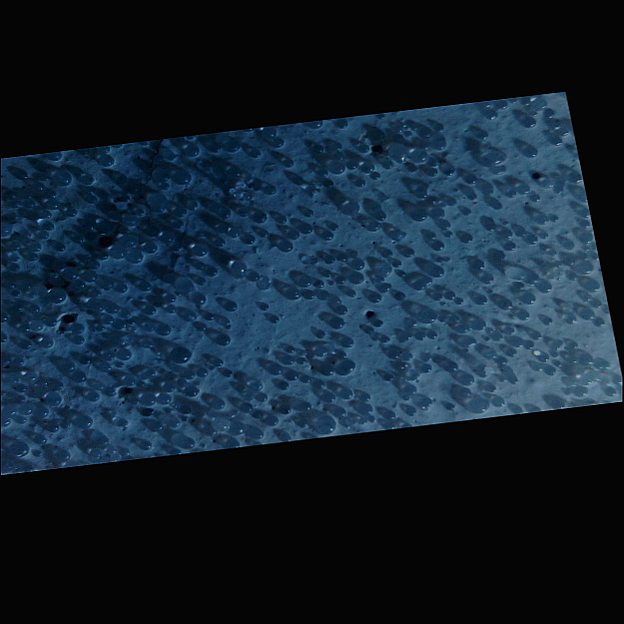GrassBeadSeg: (55, 168, 529, 397), (165, 137, 540, 426), (122, 189, 516, 455), (0, 130, 489, 341), (86, 195, 585, 390), (140, 174, 476, 449), (150, 244, 583, 431), (149, 136, 562, 329), (80, 174, 535, 348), (105, 150, 427, 395), (1, 158, 290, 426), (213, 209, 560, 430), (66, 208, 548, 362), (90, 214, 519, 383), (158, 165, 453, 403), (62, 158, 296, 450), (53, 220, 451, 389), (108, 137, 447, 324), (34, 266, 444, 418), (12, 266, 336, 456), (183, 170, 466, 384), (31, 253, 504, 381), (122, 229, 513, 381), (0, 222, 348, 387), (304, 146, 538, 383), (146, 266, 440, 448), (173, 220, 551, 360), (0, 327, 493, 432), (2, 312, 618, 395), (99, 222, 339, 435), (39, 259, 364, 407), (109, 244, 529, 358), (358, 144, 556, 385), (112, 160, 393, 329), (130, 234, 446, 382), (72, 208, 426, 340), (40, 174, 261, 385), (161, 231, 414, 415), (108, 167, 438, 308), (46, 142, 223, 404), (164, 231, 451, 391), (72, 248, 413, 382), (4, 146, 534, 232), (86, 243, 345, 416), (183, 160, 386, 377), (34, 356, 472, 456), (172, 244, 560, 356), (70, 229, 294, 416), (27, 289, 593, 363), (208, 142, 464, 305), (148, 281, 427, 428), (77, 292, 406, 416), (33, 304, 470, 396), (64, 140, 236, 372), (47, 347, 516, 432), (218, 223, 481, 371), (0, 137, 285, 271), (240, 272, 577, 384), (39, 272, 258, 443), (9, 188, 515, 262), (2, 332, 587, 396), (20, 196, 199, 405), (260, 208, 541, 340), (305, 165, 455, 410), (122, 362, 542, 449), (54, 170, 538, 244), (226, 151, 425, 328), (336, 119, 497, 336), (188, 201, 335, 433), (118, 276, 346, 425), (19, 355, 584, 413), (223, 178, 359, 417), (229, 227, 397, 417), (251, 231, 452, 389), (117, 202, 464, 292), (319, 202, 503, 371), (250, 149, 393, 364), (11, 289, 196, 447), (185, 144, 372, 297), (144, 305, 394, 419), (261, 212, 527, 319), (83, 269, 254, 435), (78, 272, 354, 374), (263, 293, 534, 396), (98, 179, 334, 296), (388, 180, 543, 358), (298, 208, 427, 419), (214, 161, 344, 366), (26, 149, 262, 261), (409, 109, 562, 280), (99, 293, 442, 369), (214, 238, 370, 401), (186, 144, 364, 283), (126, 309, 417, 394), (417, 255, 599, 382), (165, 293, 363, 404), (123, 214, 247, 391), (20, 356, 573, 395), (98, 155, 470, 210), (161, 117, 527, 172), (322, 240, 444, 399), (124, 340, 529, 386), (215, 310, 594, 359), (491, 110, 562, 367), (225, 209, 346, 357), (235, 127, 584, 178), (29, 304, 192, 413), (486, 110, 593, 274), (404, 275, 560, 382), (328, 265, 431, 426), (298, 260, 396, 427), (9, 214, 288, 272), (34, 380, 290, 443), (181, 230, 270, 411), (270, 260, 402, 373), (447, 198, 542, 355), (282, 178, 361, 365), (165, 293, 264, 438), (347, 328, 497, 423), (206, 266, 344, 369), (142, 347, 337, 417), (359, 241, 437, 414), (246, 112, 410, 192), (54, 172, 226, 248), (160, 231, 356, 297), (46, 199, 248, 262), (539, 231, 622, 384), (257, 333, 498, 384), (361, 295, 487, 392), (472, 178, 553, 328), (3, 387, 353, 421), (172, 161, 379, 218), (185, 234, 257, 395), (285, 173, 375, 301), (25, 338, 299, 380), (192, 243, 382, 303), (287, 316, 552, 359), (266, 289, 349, 425), (378, 202, 502, 293), (373, 289, 493, 383), (15, 263, 71, 461), (378, 187, 508, 269), (253, 212, 517, 249), (372, 172, 437, 322), (366, 221, 417, 412), (13, 356, 487, 376), (197, 185, 277, 303), (29, 319, 341, 349), (315, 221, 394, 337), (197, 347, 513, 376), (205, 312, 354, 373), (223, 160, 357, 224), (151, 185, 273, 253), (428, 276, 505, 381), (140, 356, 308, 404), (174, 170, 312, 227), (13, 151, 62, 311), (16, 234, 139, 295), (120, 309, 180, 427), (315, 302, 446, 356), (116, 283, 348, 313), (498, 210, 591, 284), (481, 273, 550, 372), (291, 369, 454, 409), (299, 325, 374, 410), (319, 260, 477, 300), (336, 276, 436, 339), (288, 344, 404, 398), (166, 305, 226, 408), (102, 279, 227, 327), (100, 152, 171, 236), (365, 325, 507, 365), (307, 134, 397, 194), (127, 230, 334, 256), (209, 292, 398, 320), (520, 97, 582, 182), (10, 351, 115, 401), (234, 227, 261, 418), (52, 281, 87, 428), (19, 267, 80, 347), (6, 418, 94, 471), (47, 288, 238, 312), (285, 344, 334, 434), (126, 249, 414, 264), (80, 355, 173, 401), (560, 316, 610, 400), (186, 278, 218, 408), (470, 365, 556, 412), (147, 299, 512, 310), (313, 378, 486, 401), (230, 240, 295, 301), (177, 321, 208, 447), (121, 167, 243, 199), (0, 281, 27, 423), (45, 189, 95, 265), (489, 221, 575, 265), (299, 207, 444, 233), (504, 117, 537, 229), (98, 182, 170, 233), (122, 242, 153, 359), (97, 323, 140, 403), (94, 422, 236, 446), (55, 243, 82, 368), (84, 354, 189, 386), (55, 278, 188, 303), (121, 320, 152, 426), (304, 209, 405, 241), (433, 293, 502, 339), (234, 209, 248, 433), (17, 383, 147, 407), (158, 367, 254, 399), (353, 362, 404, 421), (482, 275, 505, 405), (276, 215, 291, 413), (583, 293, 616, 382), (107, 316, 156, 375), (205, 393, 256, 447), (318, 169, 368, 223), (550, 214, 590, 278), (320, 231, 346, 327), (422, 276, 470, 328), (468, 194, 486, 329), (503, 186, 565, 224), (275, 229, 300, 322), (434, 100, 506, 132), (324, 255, 572, 264), (0, 303, 121, 321), (20, 170, 50, 239), (90, 186, 106, 312), (361, 189, 440, 214), (515, 231, 548, 290), (253, 272, 268, 401), (25, 360, 120, 380), (153, 169, 184, 230), (73, 335, 93, 427), (87, 207, 140, 241), (504, 100, 564, 130), (505, 243, 536, 301), (400, 351, 432, 406), (294, 151, 339, 189), (553, 374, 601, 409), (183, 310, 335, 321), (1, 408, 26, 473), (359, 392, 410, 423), (575, 341, 610, 386), (537, 215, 593, 243), (80, 323, 172, 340), (505, 326, 576, 348), (351, 250, 406, 277), (57, 267, 69, 390), (323, 250, 353, 299), (101, 370, 191, 386), (194, 380, 288, 395), (517, 248, 557, 283), (462, 208, 484, 270), (430, 206, 472, 238), (9, 231, 32, 289), (0, 302, 58, 325), (210, 425, 292, 441), (522, 97, 563, 129), (47, 210, 85, 243), (314, 252, 348, 287), (139, 281, 167, 323), (519, 220, 591, 236), (172, 305, 192, 362), (117, 337, 155, 367), (416, 190, 437, 240), (375, 212, 444, 227), (84, 222, 109, 260), (96, 409, 117, 453), (101, 279, 111, 371), (502, 336, 523, 379), (483, 221, 505, 262), (30, 181, 42, 251), (559, 256, 598, 277), (84, 186, 132, 203), (95, 381, 118, 416), (6, 180, 45, 199), (517, 215, 549, 237), (223, 176, 254, 198), (127, 182, 146, 216), (317, 279, 340, 304), (410, 314, 454, 327), (241, 402, 288, 414), (373, 317, 410, 332), (429, 232, 446, 264), (54, 145, 111, 154), (412, 377, 434, 400), (313, 145, 328, 178), (16, 170, 33, 198), (565, 313, 605, 324), (126, 182, 165, 193), (563, 231, 584, 251), (449, 313, 469, 333), (19, 231, 38, 252), (400, 330, 413, 360), (404, 126, 433, 138), (18, 303, 30, 331), (586, 280, 601, 302), (405, 121, 438, 131), (395, 134, 424, 145), (260, 302, 275, 323), (419, 125, 431, 150), (551, 121, 571, 135), (349, 413, 376, 423), (13, 198, 36, 209), (583, 295, 602, 308), (41, 210, 56, 226), (9, 190, 22, 208), (154, 152, 177, 162), (485, 383, 497, 401), (101, 314, 125, 323), (91, 251, 103, 269), (394, 121, 412, 133), (334, 142, 345, 159), (84, 221, 95, 235), (21, 192, 35, 202), (318, 142, 335, 150), (447, 360, 458, 371), (354, 179, 367, 188), (196, 261, 207, 271), (44, 222, 54, 233), (90, 448, 102, 457), (460, 235, 471, 244), (581, 210, 589, 221), (304, 209, 313, 218)
